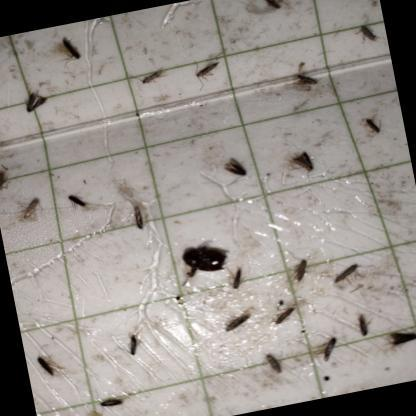prays_oleae: (284, 55, 323, 107), (13, 184, 52, 235), (26, 344, 71, 388), (327, 256, 370, 300), (218, 300, 262, 342), (254, 338, 288, 392), (348, 11, 386, 59), (191, 51, 228, 98), (122, 190, 153, 244), (284, 250, 320, 294), (305, 336, 345, 374), (285, 140, 319, 180), (382, 319, 416, 357), (268, 296, 301, 334), (350, 304, 378, 347), (64, 180, 90, 226), (215, 152, 248, 188), (224, 256, 253, 295), (358, 106, 387, 144), (19, 86, 49, 122), (59, 31, 86, 70), (138, 59, 167, 94), (94, 385, 126, 416), (120, 324, 142, 364), (0, 160, 18, 203), (256, 0, 289, 20)
